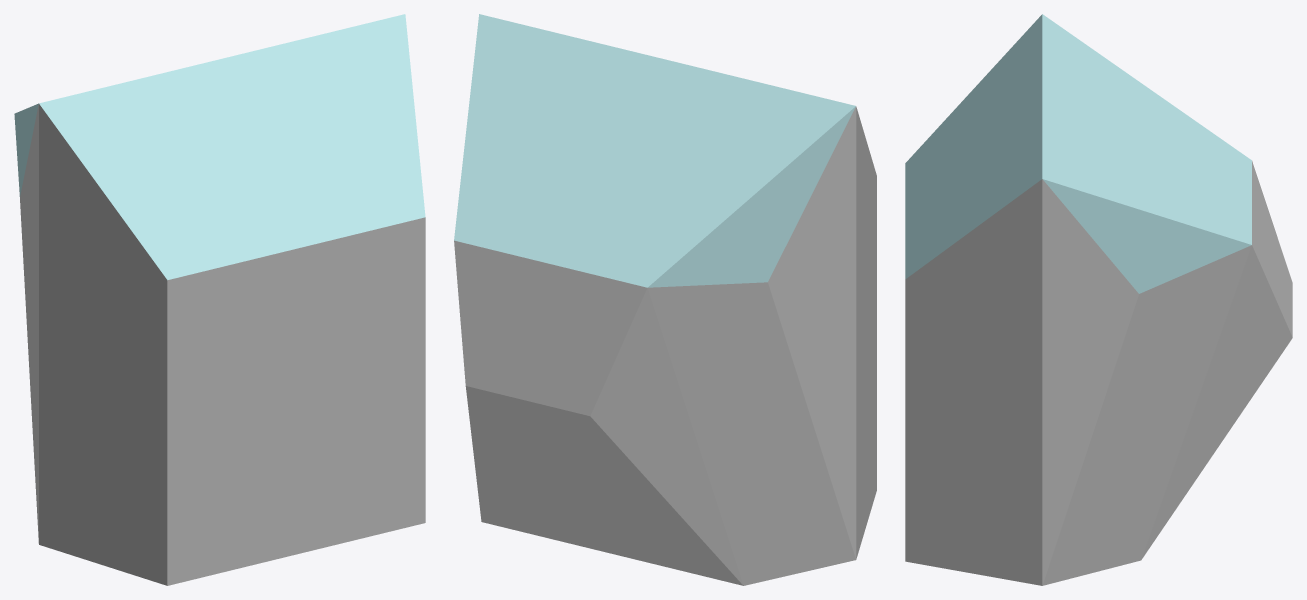
Rendered from BR_Porygon.obj.
The picture shows the model from 3 angles, left to right: view 1: azimuth 30°, elevation 25°; view 2: azimuth 150°, elevation 25°; view 3: azimuth 270°, elevation 25°; orthographic projection. The views are drawn at different scales.
Parts seen in each view (by area): view 1: porygon; view 2: porygon; view 3: porygon.
Boxes of the visible parts, x1,y1,x2,y2 form: porygon: (14, 14, 425, 585); porygon: (454, 14, 876, 585); porygon: (905, 14, 1292, 585).
Size of the model in its own units: 4.7 by 5.4 by 4.66.
